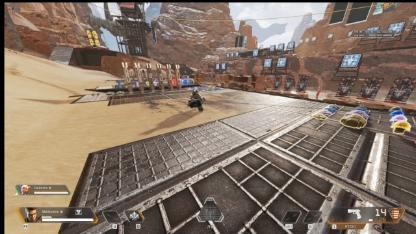Target: (186, 88, 206, 114)
